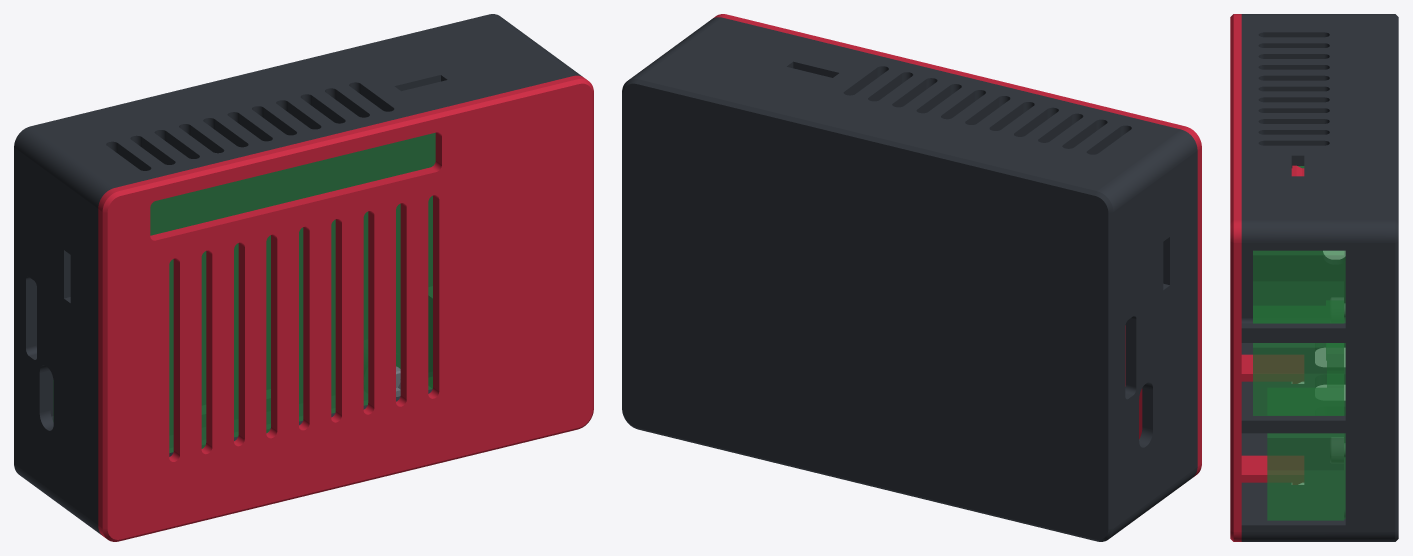
3 renders of one model, left to right at view 1: azimuth 30°, elevation 25°; view 2: azimuth 150°, elevation 25°; view 3: azimuth 270°, elevation 25°, orthographic. The views are drawn at different scales.
Visible parts, largest first — view 1: 1:Lid, 0:Base, 2:Raspberry_Pi_5; view 2: 0:Base, 1:Lid; view 3: 0:Base, 2:Raspberry_Pi_5, 1:Lid, 6:Screw_2.
Boxes of the visible parts, x1,y1,x2,y2 form: 1:Lid: (98, 75, 593, 541); 0:Base: (14, 14, 582, 535); 2:Raspberry_Pi_5: (53, 132, 435, 452); 0:Base: (622, 17, 1197, 541); 1:Lid: (713, 14, 1201, 476); 0:Base: (1241, 14, 1398, 541); 2:Raspberry_Pi_5: (1253, 166, 1345, 520); 1:Lid: (1230, 14, 1304, 541); 6:Screw_2: (1330, 437, 1345, 463).
Bounding box in the file's own units: 91 × 62 × 29.6.
